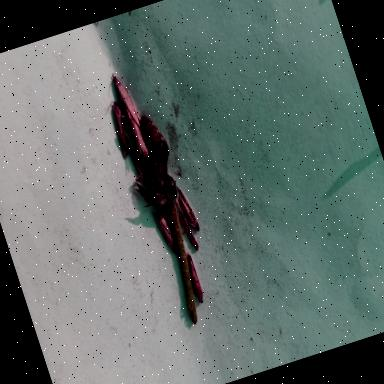pbw: (104, 98, 138, 162), (110, 68, 144, 130), (122, 101, 152, 161), (174, 198, 202, 254), (173, 182, 202, 236), (150, 206, 180, 258), (182, 252, 206, 306)
